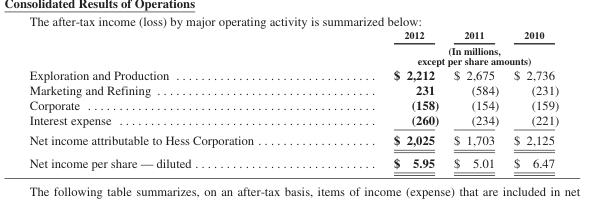table: (28, 29, 558, 169)
table column: (28, 29, 323, 169), (323, 29, 445, 169), (445, 29, 505, 169), (505, 29, 558, 169)
table column header: (28, 29, 558, 66)
table row: (28, 42, 558, 66), (28, 129, 558, 151), (28, 151, 558, 169), (28, 112, 558, 129), (28, 81, 558, 97), (28, 66, 558, 81), (28, 97, 558, 112), (28, 29, 558, 42)
table spanning cell: (323, 42, 558, 66)
